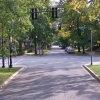Tree: (57, 1, 100, 54)
